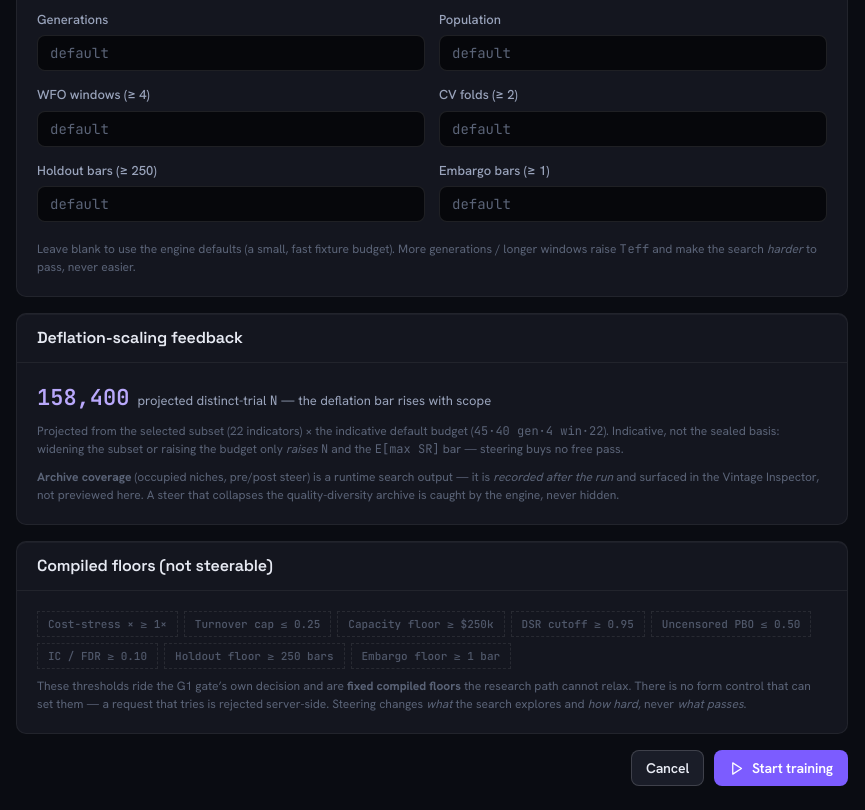
Test case: NewTraining › blocks submit with a client-side validation message when the window is missing
The width and height of the screenshot is (865, 810).
(page scrolled)
Click the button "Start training" at (781, 768), box [714, 750, 848, 786]
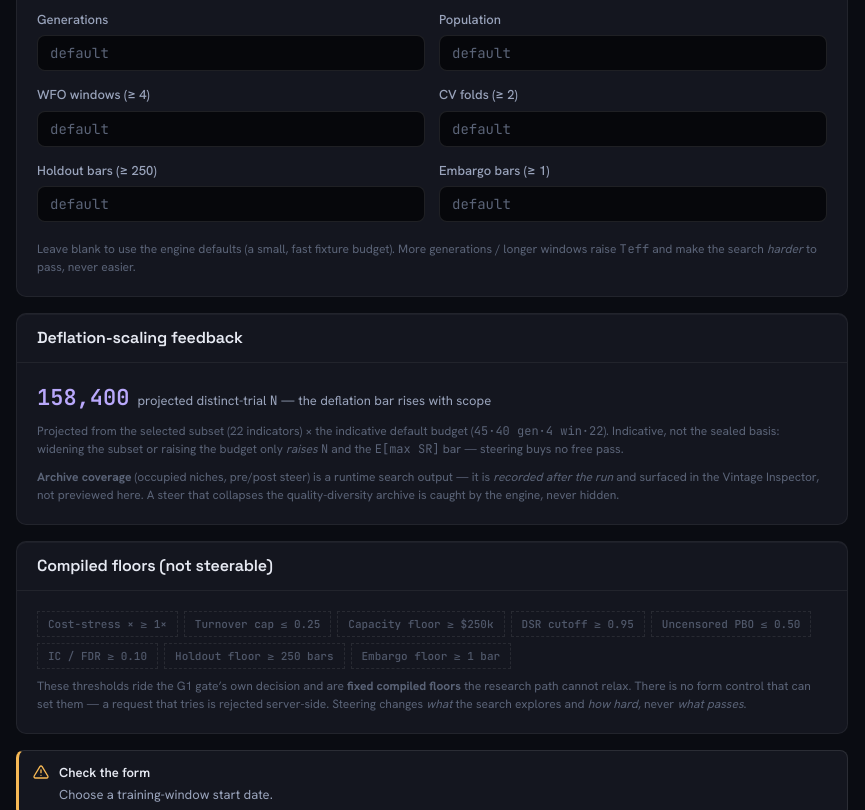
Expected: the text "Check the form Choose a training-window start date." is shown, [59, 763, 273, 804]
